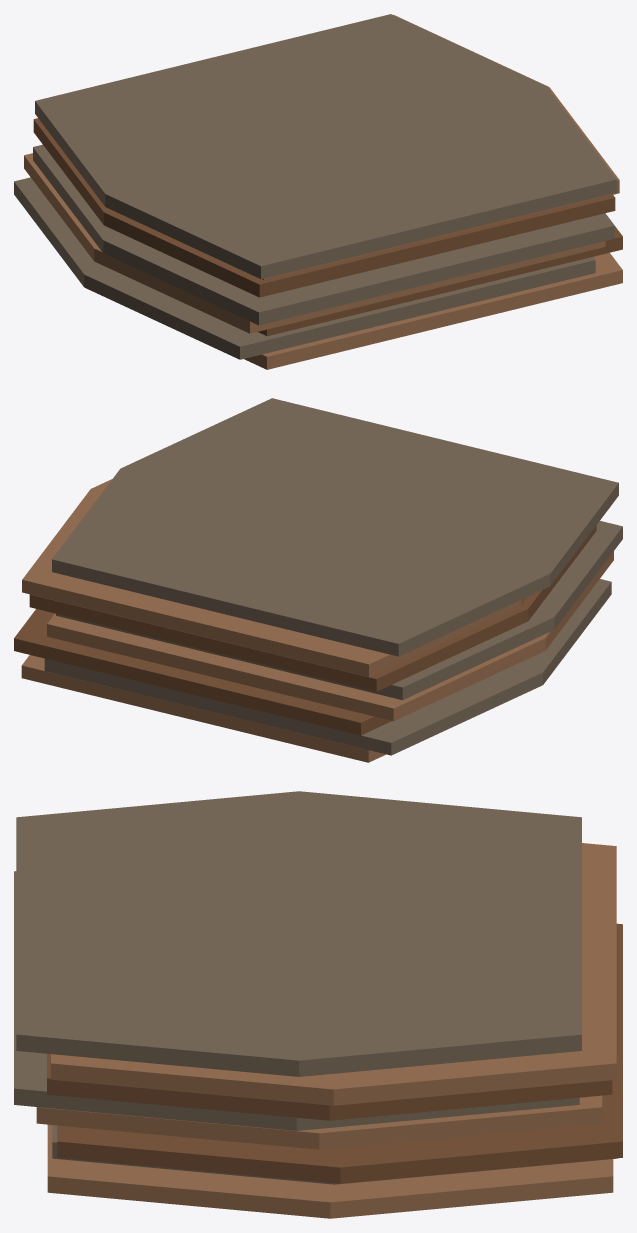
Rendered from pile_hides_3.glb.
3 renders of one model, top to bottom at view 1: azimuth 30°, elevation 25°; view 2: azimuth 150°, elevation 25°; view 3: azimuth 270°, elevation 25°, orthographic. The views are drawn at different scales.
Parts seen in each view (by area): view 1: pile_hides_3; view 2: pile_hides_3; view 3: pile_hides_3.
Part boxes in pixels (left/top/right/bottom): pile_hides_3: left=14, top=14, right=622, bottom=369; pile_hides_3: left=14, top=398, right=622, bottom=762; pile_hides_3: left=14, top=791, right=622, bottom=1218.
Size of the model in its own units: 1.32 by 0.315 by 1.18.
